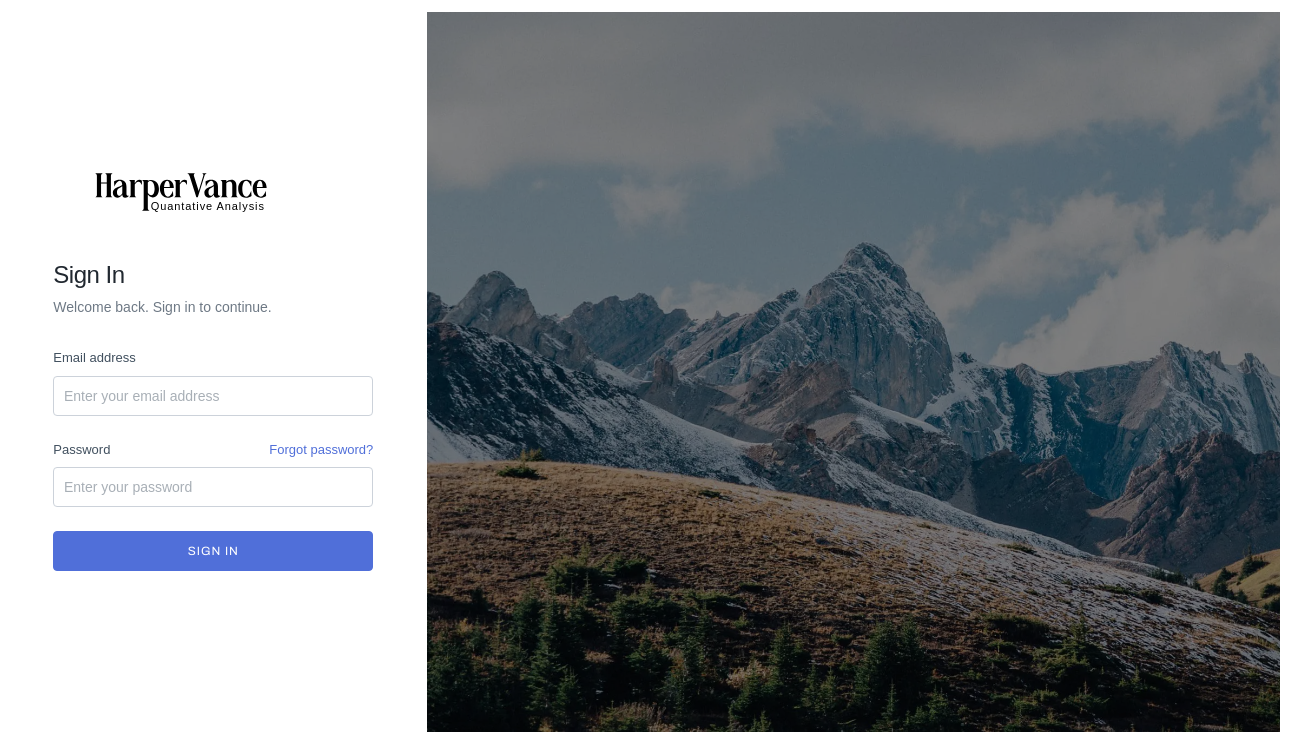
Scenario: Login MFA challenge › clears the temporary challenge when returning to password sign in
In the field labelled "Email address": coordinates (213, 396) [53,376,373,416], type "owner@example.com"
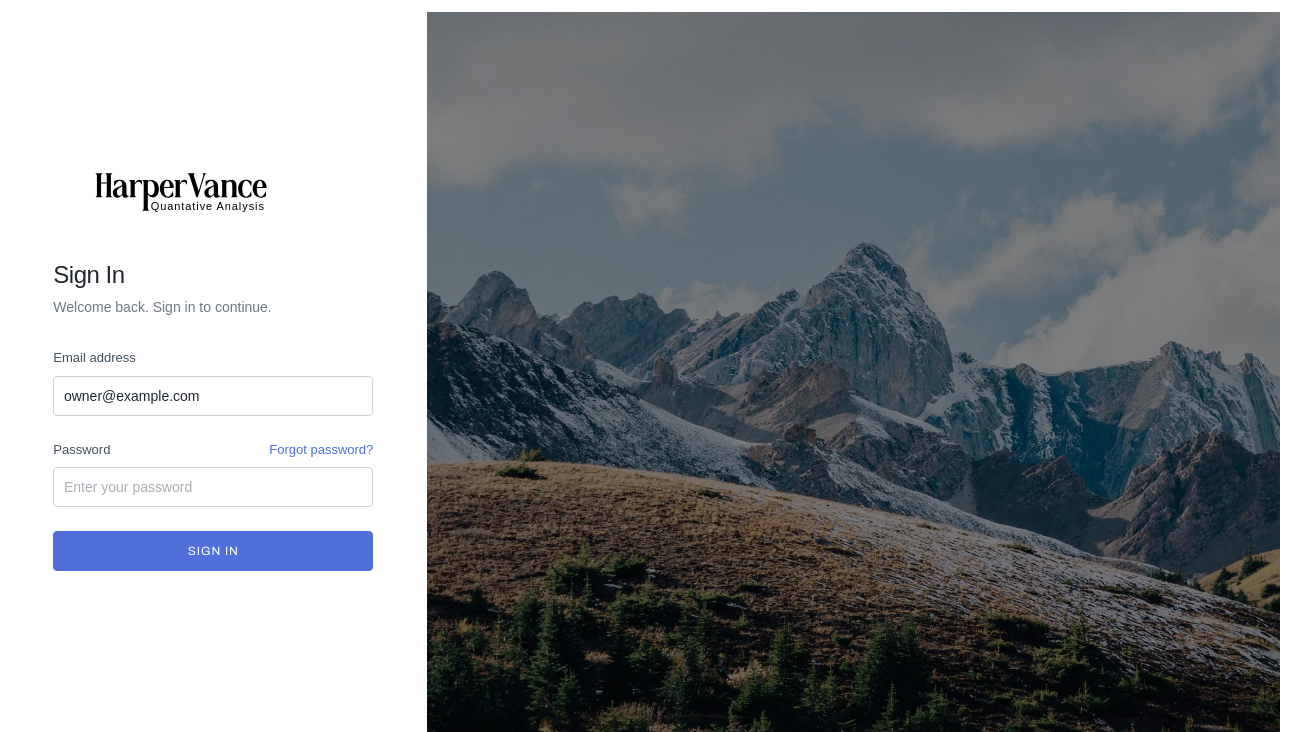
In the password field labelled "Password Forgot password?": coordinates (213, 487) [53,467,373,507], type "valid-password"
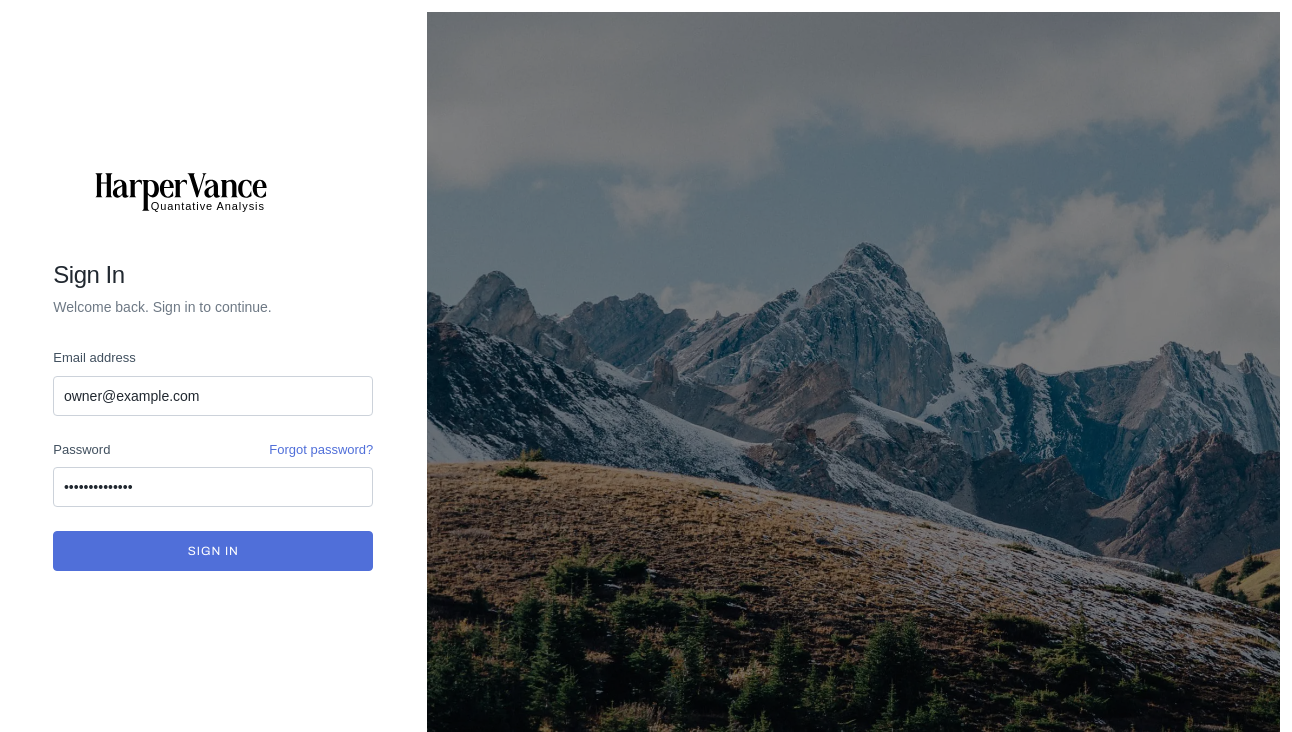
Click the button "Sign In": coordinates (213, 551) [53,531,373,571]
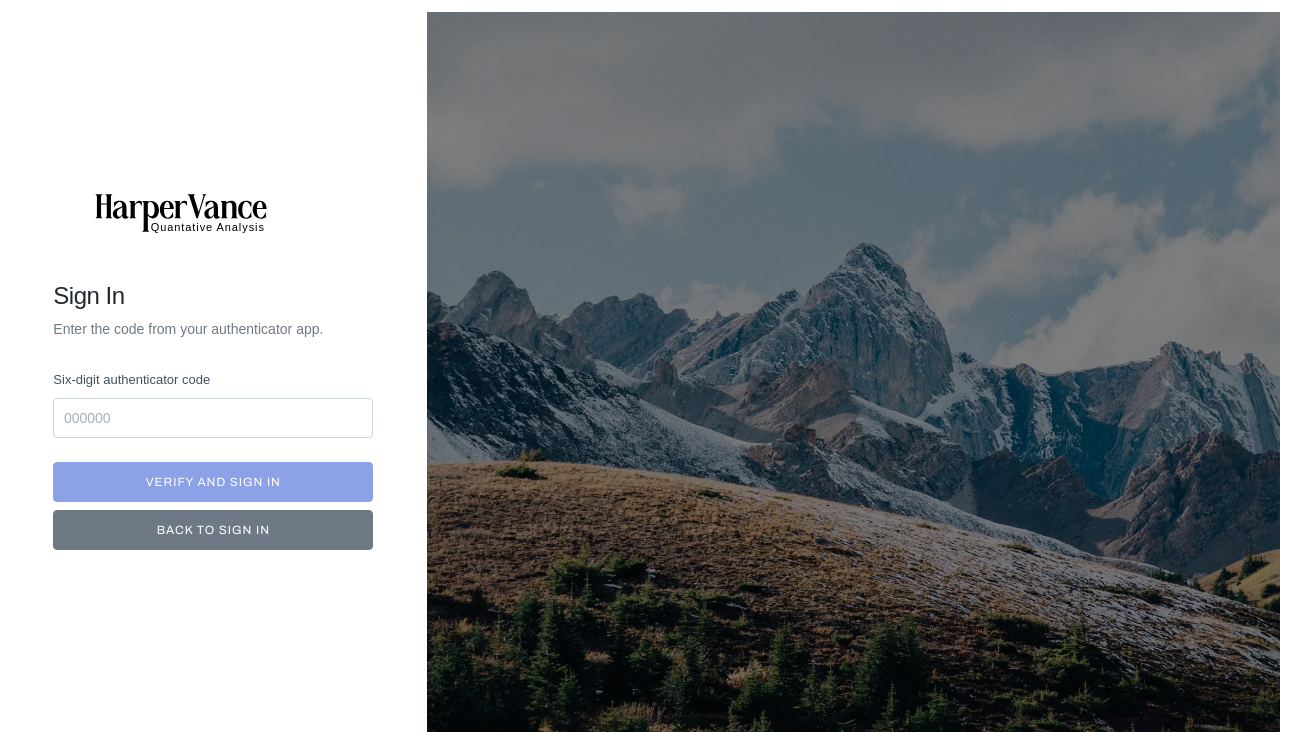
Expected: the field labelled "Six-digit authenticator code" is shown, [53,398,373,438]
Click the button "Back to sign in": coordinates (213, 530) [53,510,373,550]
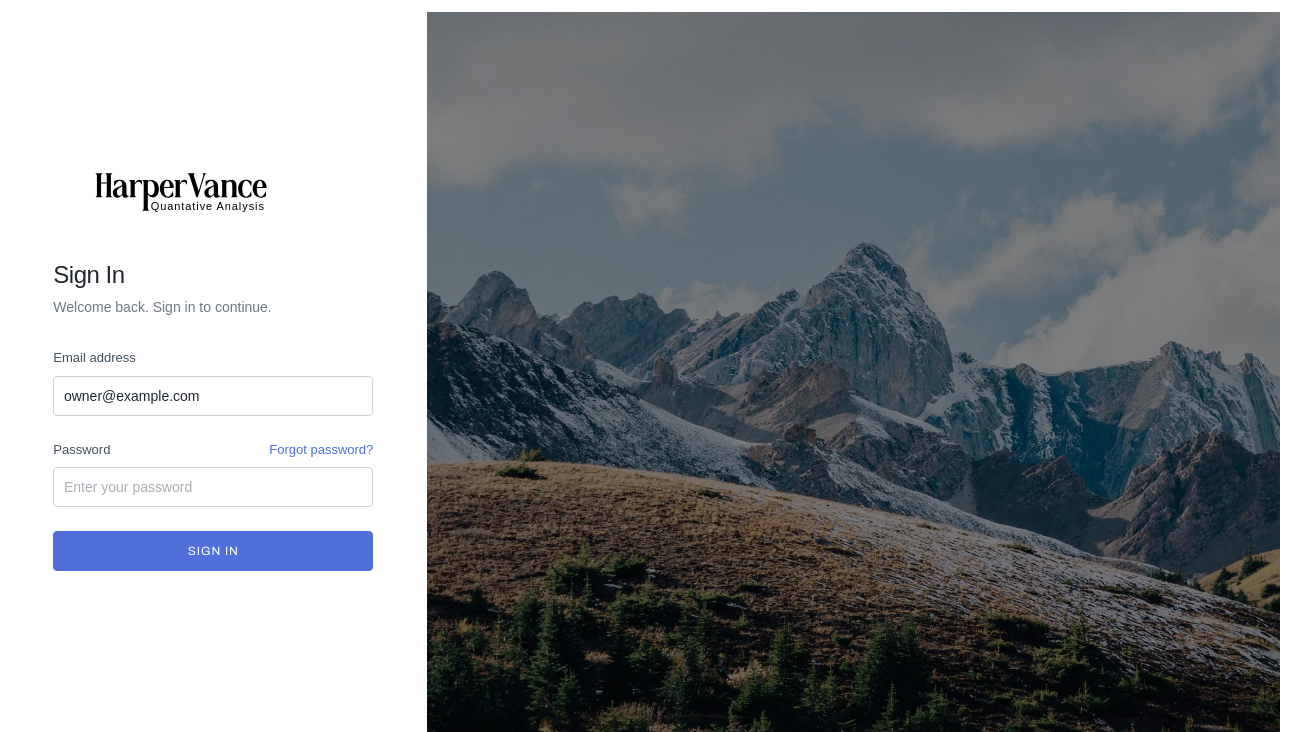
Expected: the label labelled "Six-digit authenticator code" is gone
